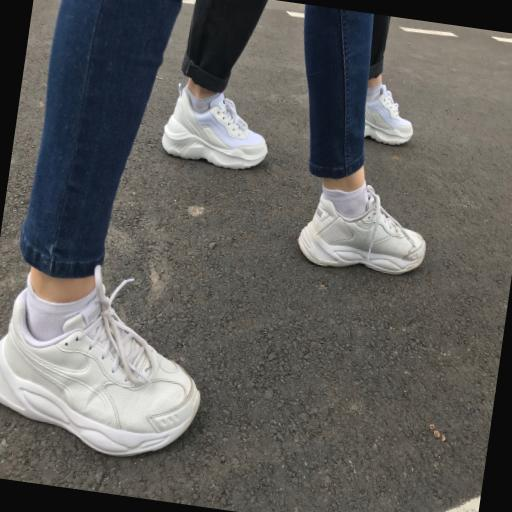shoe: (0, 266, 200, 456), (299, 186, 425, 274), (162, 86, 267, 169), (365, 85, 413, 145)
